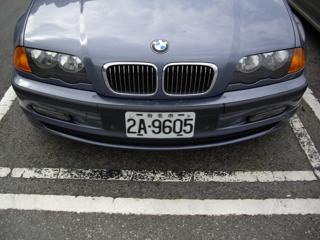plate: (123, 110, 195, 139)
